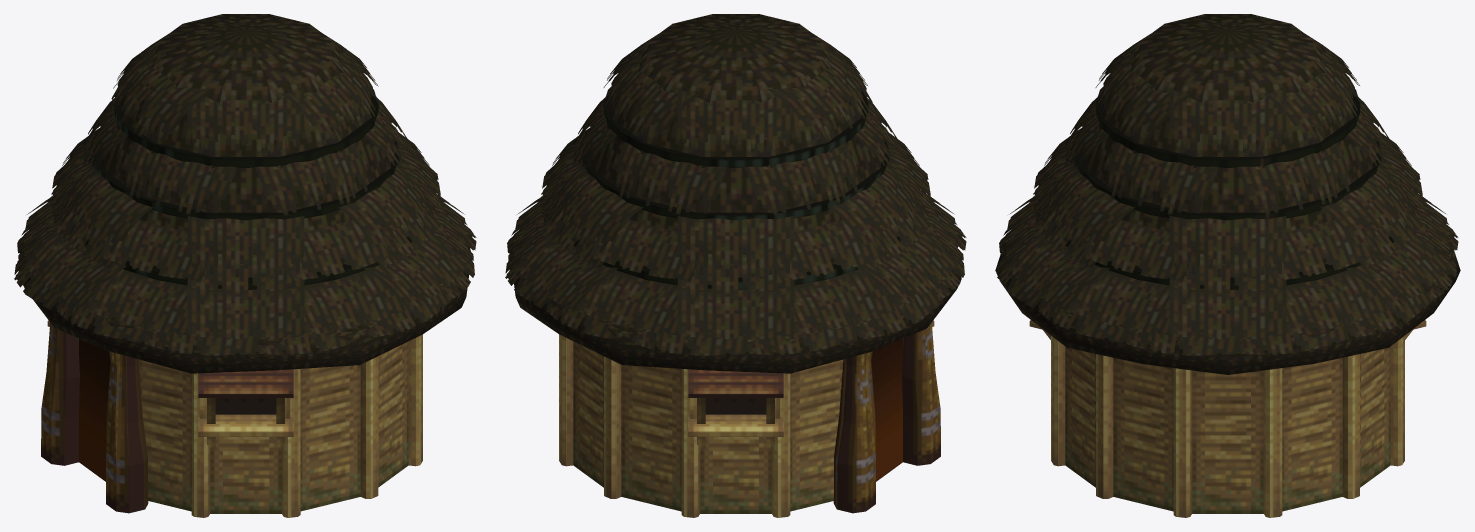
File: EnvBdgMD_Island_A_Outdoor_House_C.FBX
3 renders of one model, left to right at view 1: azimuth 30°, elevation 25°; view 2: azimuth 150°, elevation 25°; view 3: azimuth 270°, elevation 25°, orthographic.
Parts seen in each view (by area): view 1: EnvBdgMD_Island_A_Outdoor_House_C; view 2: EnvBdgMD_Island_A_Outdoor_House_C; view 3: EnvBdgMD_Island_A_Outdoor_House_C.
Part boxes in pixels (x1,y1,x2,y2): EnvBdgMD_Island_A_Outdoor_House_C: (14,14,476,517); EnvBdgMD_Island_A_Outdoor_House_C: (505,14,966,517); EnvBdgMD_Island_A_Outdoor_House_C: (995,14,1460,517).
Size of the model in its own units: 538 by 525 by 538.
2 materials, 2 textured.
